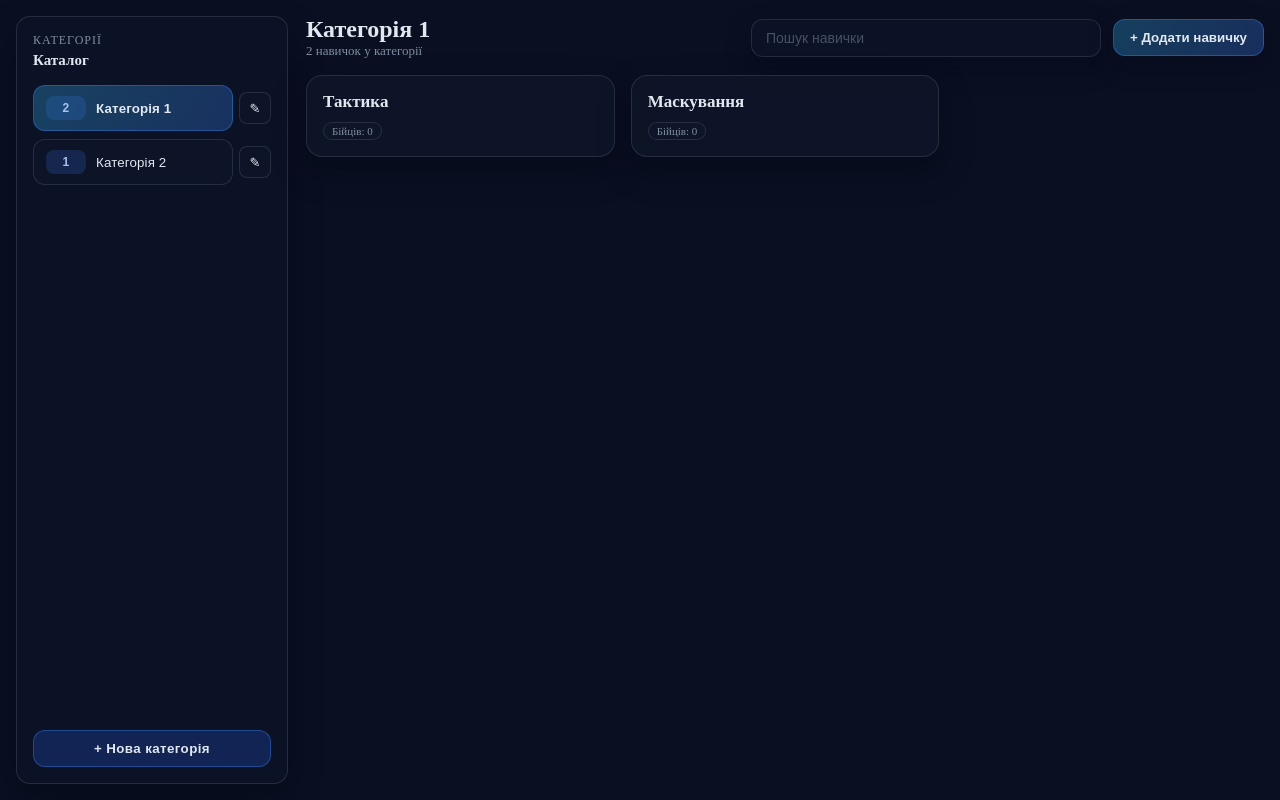
Test: Skills page › switches categories via sidebar and updates visible skills
Expected: the text "Тактика" is shown, [323, 92, 388, 111]
Expected: the text "Маскування" is shown, [648, 92, 744, 111]
Click the button "1 Категорія 2". click: x=133, y=162
box: [33, 139, 233, 185]
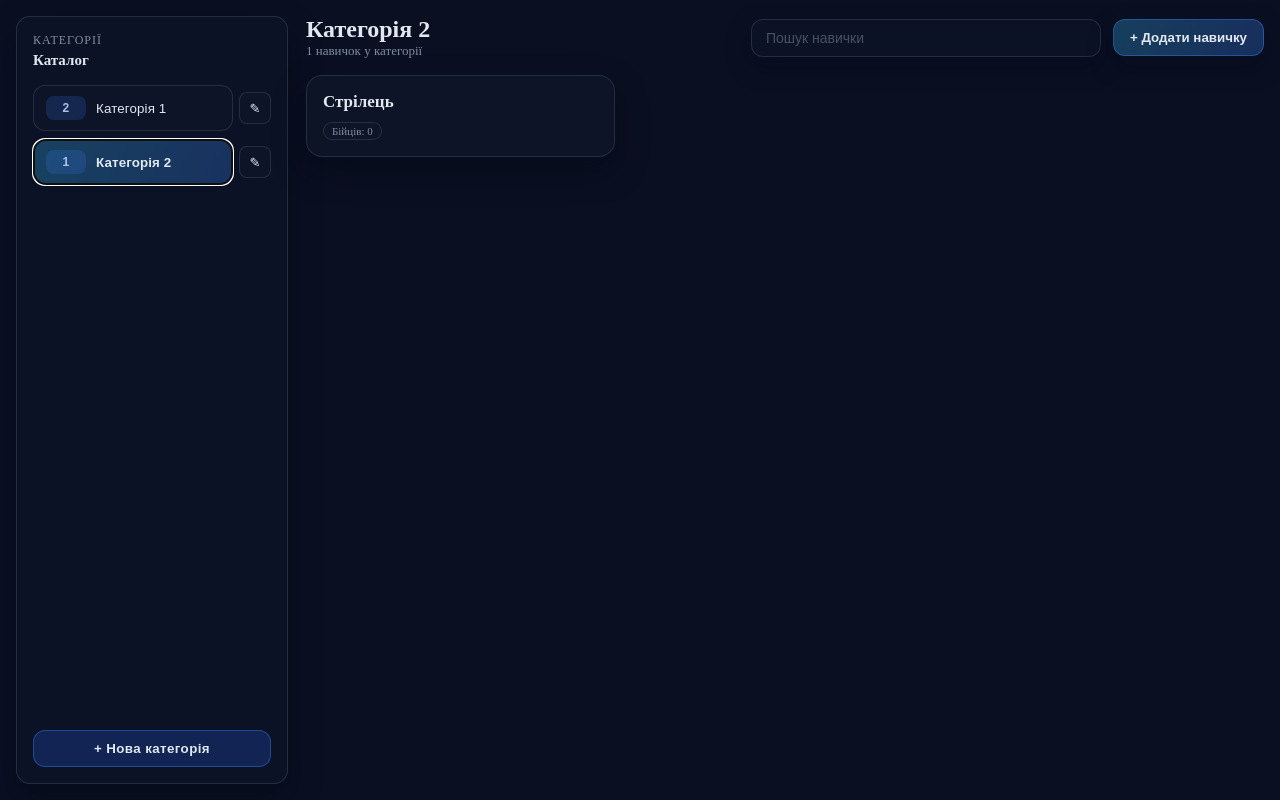
Result: the text "Стрілець" is shown at [323, 92, 394, 111]
Result: the button "Тактика" is gone
